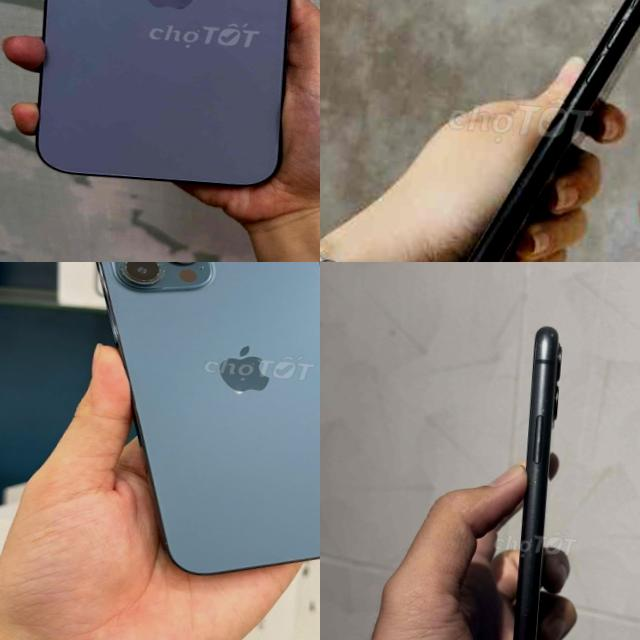scratch: (512, 459, 550, 627), (530, 327, 564, 418)
